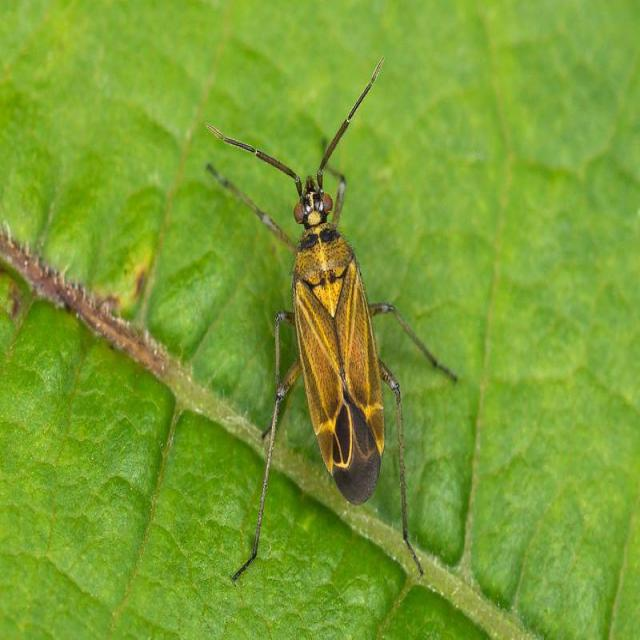Miridae-Adult-: (186, 53, 458, 597)
